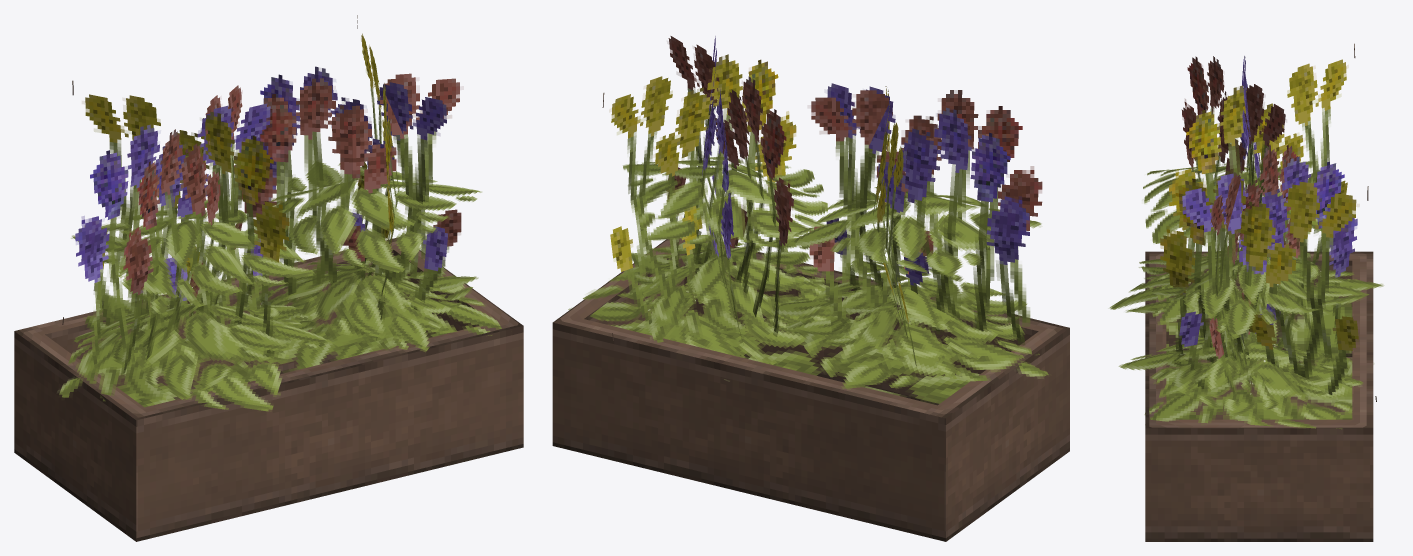
The model's file is flower_box.glb.
3 views of the same model, side by side, from view 1: azimuth 30°, elevation 25°; view 2: azimuth 150°, elevation 25°; view 3: azimuth 270°, elevation 25° (orthographic). The views are drawn at different scales.
Parts seen in each view (by area): view 1: flower_box; view 2: flower_box; view 3: flower_box.
Boxes of the visible parts, x1,y1,x2,y2 form: flower_box: [14, 15, 523, 541]; flower_box: [552, 36, 1069, 541]; flower_box: [1109, 43, 1383, 541].
Bounding box in the file's own units: 1.11 × 0.8943 × 0.7099.
1 material, 1 textured.
